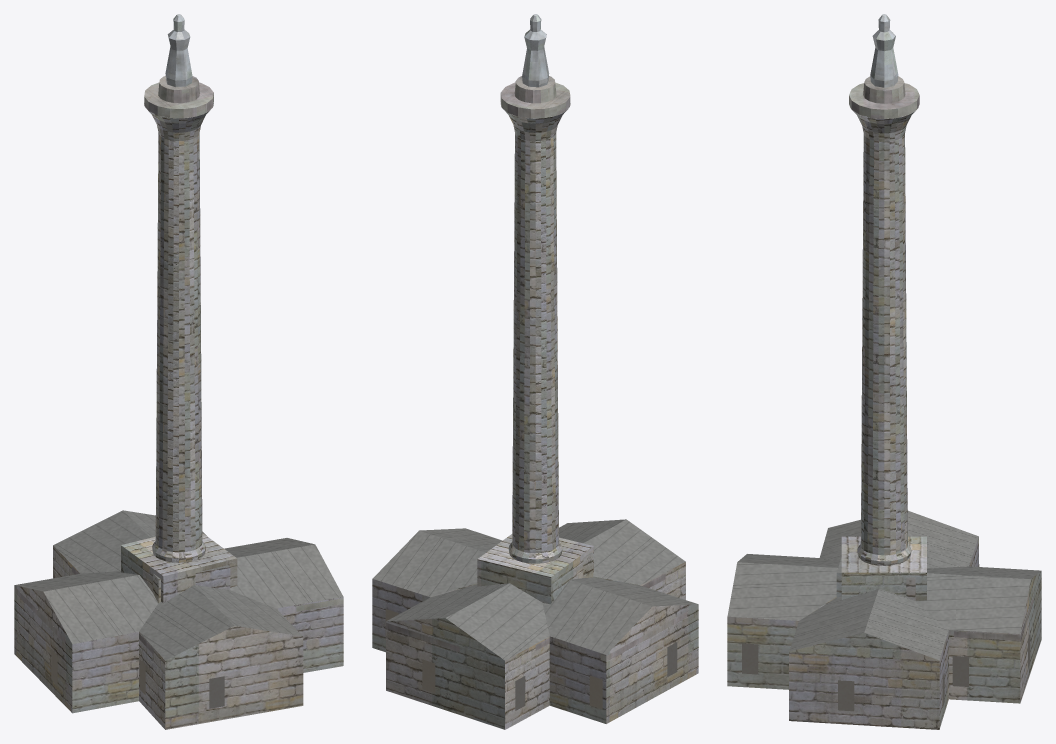
The model's file is barriere-du-trone-philippe-auguste.glb.
3 views of the same model, side by side, from view 1: azimuth 30°, elevation 25°; view 2: azimuth 150°, elevation 25°; view 3: azimuth 270°, elevation 25° (orthographic).
Parts seen in each view (by area): view 1: stone, roof, trim, metal, window; view 2: stone, roof, trim, window, metal; view 3: stone, roof, trim, window, metal.
Boxes of the visible parts, x1=… form: stone: x1=14, y1=103, x2=343, y2=729; roof: x1=15, y1=510, x2=343, y2=660; trim: x1=14, y1=76, x2=343, y2=667; metal: x1=165, y1=14, x2=192, y2=87; window: x1=51, y1=577, x2=224, y2=708; stone: x1=372, y1=102, x2=698, y2=729; roof: x1=372, y1=519, x2=697, y2=660; trim: x1=386, y1=76, x2=687, y2=661; window: x1=385, y1=609, x2=677, y2=710; metal: x1=522, y1=14, x2=549, y2=87; stone: x1=727, y1=105, x2=1041, y2=729; roof: x1=727, y1=510, x2=1040, y2=660; trim: x1=736, y1=76, x2=1033, y2=640; window: x1=742, y1=564, x2=1030, y2=711; metal: x1=870, y1=14, x2=898, y2=87.
Size of the model in its own units: 12.27 by 28 by 12.29.
5 materials, 5 textured.
